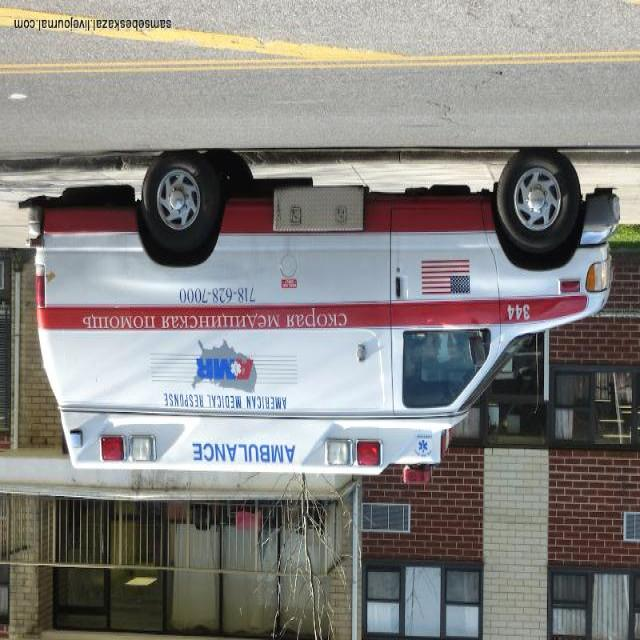emergency-vehicle: (19, 148, 622, 473)
